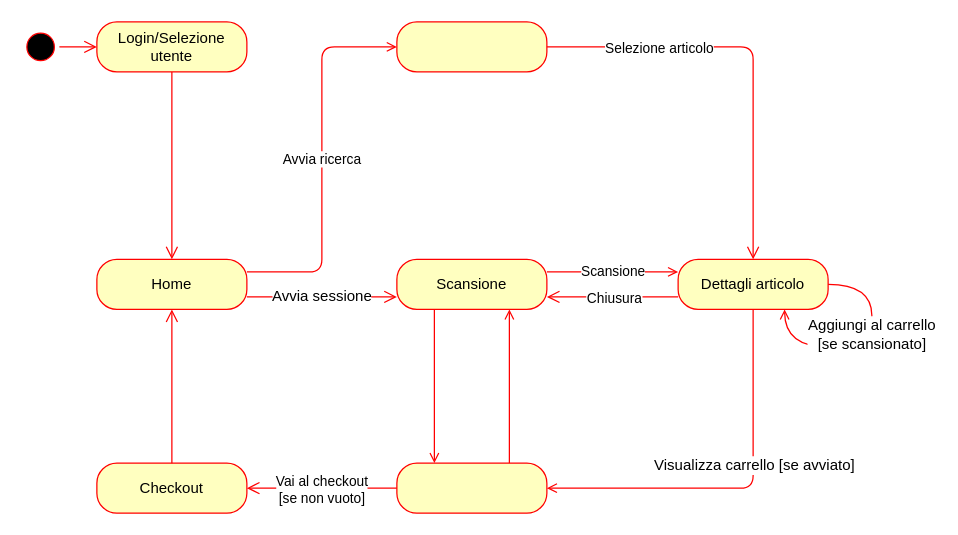
Some shapes in this 958 by 535 pixel diagram are drawn without their labels. Here are the shapes that lost their labels. From the top down, the box of each, then its label:
(396, 21, 547, 72): Ricerca e lista articoli
(396, 462, 547, 513): Carrello
